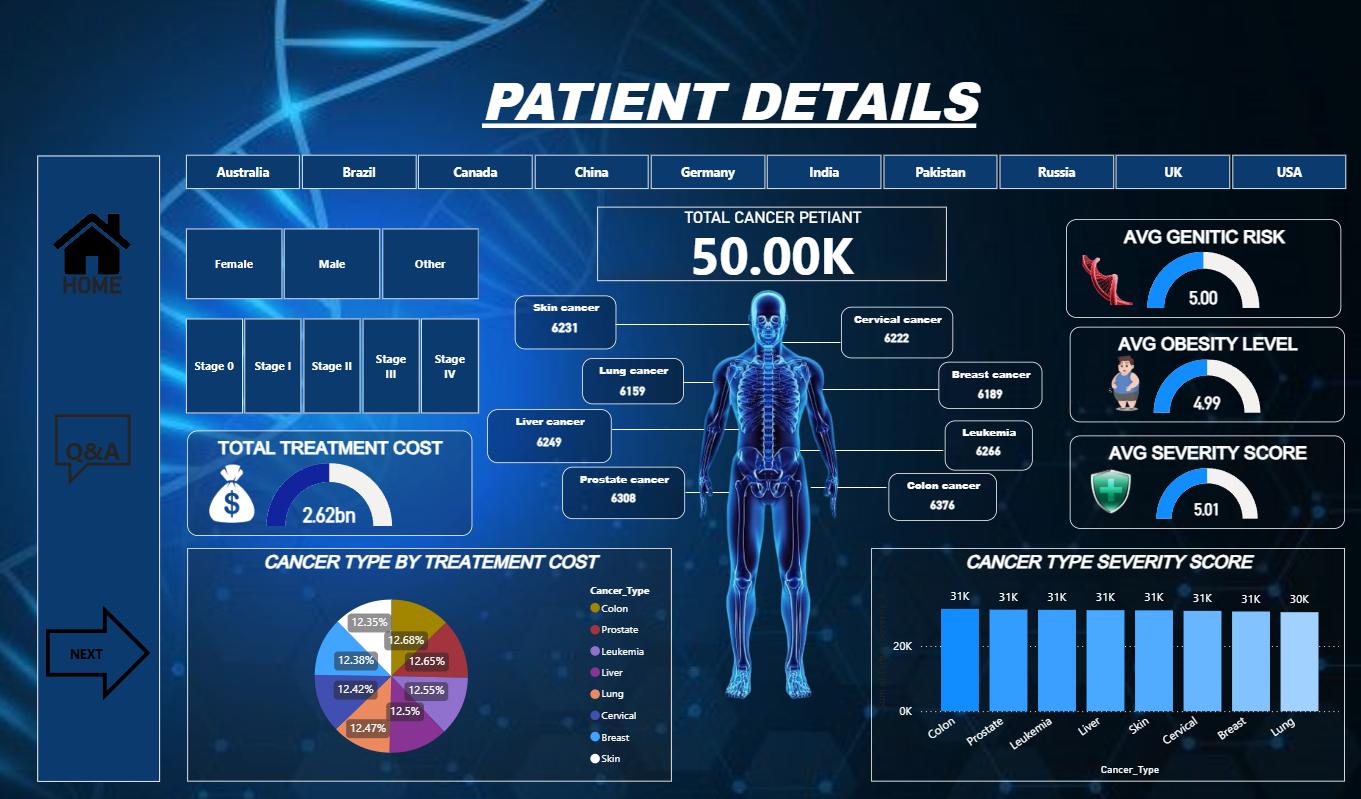

The page's visual inventory and layout, read from the dashboard file:
{"tool":"powerbi","page":{"name":"DETEILS","canvas":[1450,853],"ordinal":1},"visuals":[{"type":"textbox","box":[837.5,387.4,163.8,62.7],"z":0},{"type":"card","title":"Breast cancer","fields":{"Values":["Count(global_cancer_patients_2015_2024.Patient_ID)"]},"box":[994.1,388.8,109.7,49.8],"z":1000},{"type":"textbox","box":[817.5,337.6,95.4,55.5],"z":2000},{"type":"textbox","box":[806.1,461.5,276.3,35.6],"z":3000},{"type":"textbox","box":[854.6,489.9,136.7,54.1],"z":4000},{"type":"textbox","box":[618.1,430.1,213.6,54.1],"z":5000},{"type":"textbox","box":[689.3,363.2,111.1,58.4],"z":6000},{"type":"textbox","box":[659.4,495.6,170.9,54.1],"z":7000},{"type":"textbox","box":[635.2,319,182.3,65.5],"z":8000},{"type":"card","title":" Cervical cancer","fields":{"Values":["Count(global_cancer_patients_2015_2024.Patient_ID)"]},"box":[891.6,330.4,118.2,54.1],"z":9000},{"type":"card","title":"Liver cancer","fields":{"Values":["Count(global_cancer_patients_2015_2024.Patient_ID)"]},"box":[518.4,438.7,131,57],"z":10000},{"type":"card","title":"Lung cancer","fields":{"Values":["Count(global_cancer_patients_2015_2024.Patient_ID)"]},"box":[618.1,384.6,106.8,48.4],"z":11000},{"type":"card","title":"Skin cancer","fields":{"Values":["Count(global_cancer_patients_2015_2024.Patient_ID)"]},"box":[546.9,319,106.8,57],"z":12000},{"type":"card","title":"Leukemia","fields":{"Values":["Count(global_cancer_patients_2015_2024.Patient_ID)"]},"box":[1001.3,451.5,92.6,52.7],"z":13000},{"type":"card","title":"Prostate cancer","fields":{"Values":["Count(global_cancer_patients_2015_2024.Patient_ID)"]},"box":[596.8,499.9,129.6,55.5],"z":14000},{"type":"card","title":"Colon cancer","fields":{"Values":["Count(global_cancer_patients_2015_2024.Patient_ID)"]},"box":[941.9,506,114.3,50],"z":15000},{"type":"card","title":"TOTAL CANCER PETIANT","fields":{"Values":["Count(global_cancer_patients_2015_2024.Patient_ID)"]},"box":[633.8,225,368.9,78.3],"z":16000},{"type":"gauge","title":"TOTAL TREATMENT  COST","fields":{"Y":["Sum(global_cancer_patients_2015_2024.Treatment_Cost_USD)"]},"box":[202.2,461.5,300.5,111.1],"z":17000},{"type":"image","box":[183.7,478.6,131,98.3],"z":18000},{"type":"slicer","fields":{"Values":["global_cancer_patients_2015_2024.Country_Region"]},"box":[173.8,163.8,1274.7,49.8],"z":19000},{"type":"pieChart","title":"CANCER TYPE BY TREATEMENT COST","fields":{"Category":["global_cancer_patients_2015_2024.Cancer_Type"],"Y":["Sum(global_cancer_patients_2015_2024.Treatment_Cost_USD)"]},"box":[202.2,585.4,511.3,246.4],"z":20000},{"type":"gauge","title":"AVG SEVERITY SCORE","fields":{"Y":["global_cancer_patients_2015_2024.AVG_SURVIVAL_YEARS"]},"box":[1132.3,467.2,290.6,98.3],"z":21000},{"type":"columnChart","title":"CANCER TYPE SEVERITY SCORE","fields":{"Category":["global_cancer_patients_2015_2024.Cancer_Type"],"Y":["Sum(global_cancer_patients_2015_2024.Target_Severity_Score)"]},"box":[922.9,585.4,499.9,246.4],"z":22000},{"type":"image","box":[1132.3,488.5,86.9,76.9],"z":23000},{"type":"slicer","title":"GENDER","fields":{"Values":["global_cancer_patients_2015_2024.Gender"]},"box":[173.8,240.7,358.9,88.3],"z":24000},{"type":"slicer","title":"CANCER STAGE","fields":{"Values":["global_cancer_patients_2015_2024.Cancer_Stage"]},"box":[173.8,336.1,358.9,113.9],"z":25000},{"type":"gauge","title":"AVG OBESITY LEVEL","fields":{"Y":["global_cancer_patients_2015_2024.AVG_OBESITY_LEVEL"]},"box":[1132.3,351.8,290.6,101.1],"z":26000},{"type":"gauge","title":"AVG GENITIC RISK","fields":{"Y":["global_cancer_patients_2015_2024.AVG_GENITIC_RISK"]},"box":[1129.4,239.3,290.6,104],"z":27000},{"type":"image","box":[1122.3,272,101.1,62.7],"z":28000},{"type":"image","box":[1148,343.2,85.5,135.3],"z":29000},{"type":"image","box":[649.5,282,331.9,491.4],"z":30000},{"type":"textbox","box":[507.4,71.5,584.6,92.9],"z":31000},{"type":"shape","box":[44.2,170.9,129.6,660.9],"z":32000},{"type":"image","title":"HOME","box":[17.2,198.7,167.2,132.9],"z":33000},{"type":"actionButton","title":"HOME","box":[68.6,294.4,65.7,27.2],"z":34000},{"type":"shape","box":[52.9,646,110.1,100.1],"z":35000},{"type":"actionButton","box":[54.3,433.1,95.8,98.6],"z":36000}]}

Visuals, with their boxes in screenshot pixels (x1, y1, x2, y2), scaled from the page's 1450x853 canvas onto the 1361x799 screenshot:
textbox: (786, 363, 940, 422)
"Breast cancer" card: (933, 364, 1036, 411)
textbox: (767, 316, 857, 368)
textbox: (757, 432, 1016, 466)
textbox: (802, 459, 930, 510)
textbox: (580, 403, 781, 454)
textbox: (647, 340, 751, 395)
textbox: (619, 464, 779, 515)
textbox: (596, 299, 767, 360)
" Cervical cancer" card: (837, 309, 948, 360)
"Liver cancer" card: (487, 411, 610, 464)
"Lung cancer" card: (580, 360, 680, 406)
"Skin cancer" card: (513, 299, 614, 352)
"Leukemia" card: (940, 423, 1027, 472)
"Prostate cancer" card: (560, 468, 682, 520)
"Colon cancer" card: (884, 474, 991, 521)
"TOTAL CANCER PETIANT" card: (595, 211, 941, 284)
"TOTAL TREATMENT  COST" gauge: (190, 432, 472, 536)
image: (172, 448, 295, 540)
slicer - global_cancer_patients_2015_2024.Country_Region: (163, 153, 1360, 200)
"CANCER TYPE BY TREATEMENT COST" pieChart: (190, 548, 670, 779)
"AVG SEVERITY SCORE" gauge: (1063, 438, 1336, 530)
"CANCER TYPE SEVERITY SCORE" columnChart: (866, 548, 1335, 779)
image: (1063, 458, 1144, 530)
"GENDER" slicer: (163, 225, 500, 308)
"CANCER STAGE" slicer: (163, 315, 500, 422)
"AVG OBESITY LEVEL" gauge: (1063, 330, 1336, 424)
"AVG GENITIC RISK" gauge: (1060, 224, 1333, 322)
image: (1053, 255, 1148, 314)
image: (1078, 321, 1158, 448)
image: (610, 264, 921, 724)
textbox: (476, 67, 1025, 154)
shape: (41, 160, 163, 779)
"HOME" image: (16, 186, 173, 311)
"HOME" actionButton: (64, 276, 126, 301)
shape: (50, 605, 153, 699)
actionButton: (51, 406, 141, 498)
